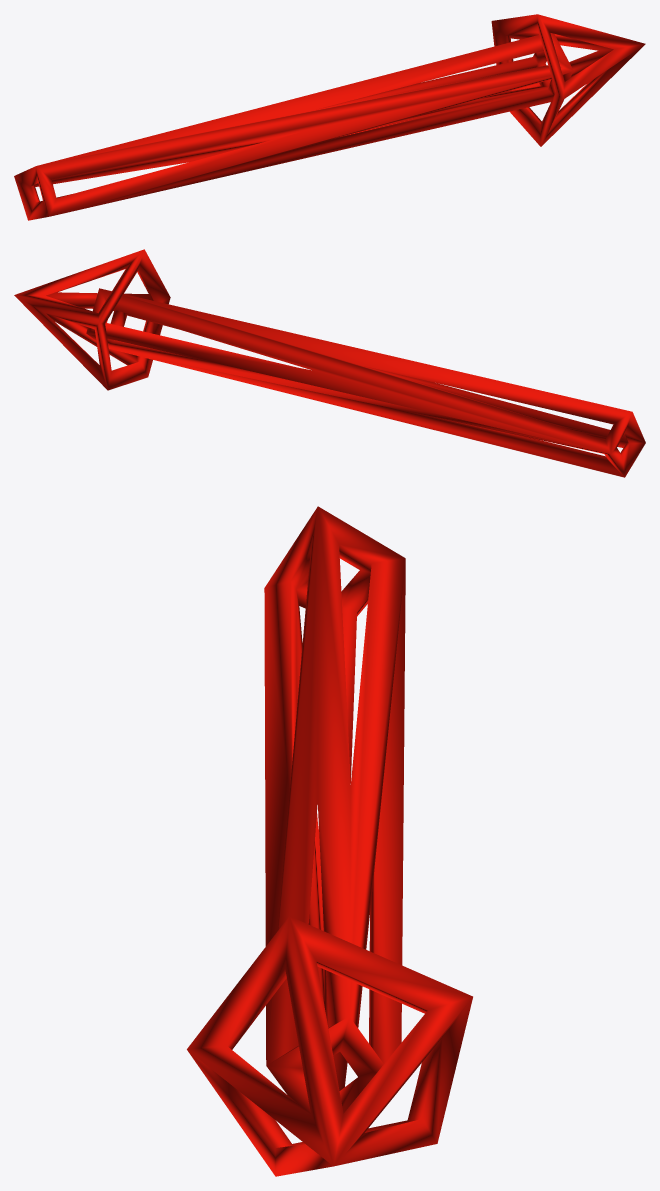
Rendered from gizmo_x.glb.
3 renders of one model, top to bottom at view 1: azimuth 30°, elevation 25°; view 2: azimuth 150°, elevation 25°; view 3: azimuth 270°, elevation 25°, orthographic. The views are drawn at different scales.
Parts seen in each view (by area): view 1: z.002; view 2: z.002; view 3: z.002.
Part boxes in pixels (x1,y1,x2,y2): z.002: (14, 14, 645, 220); z.002: (14, 249, 645, 477); z.002: (187, 506, 472, 1176).
Bounding box in the file's own units: 1.23 × 0.2487 × 0.2476.
